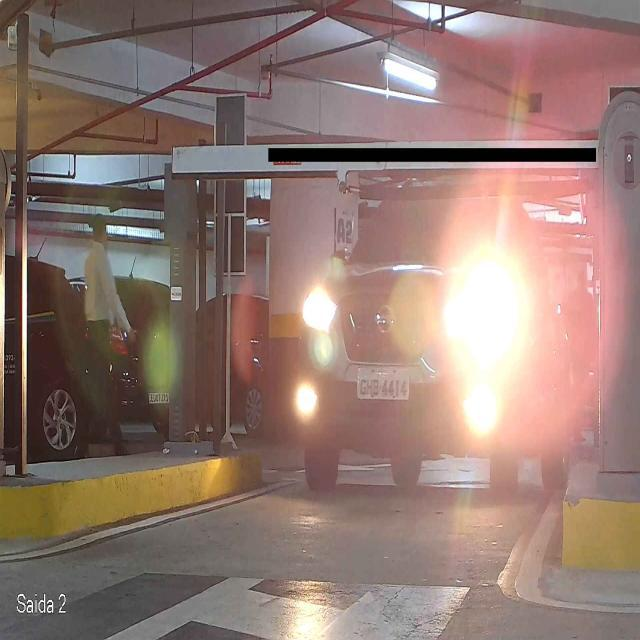old_plate: (356, 367, 411, 401)
